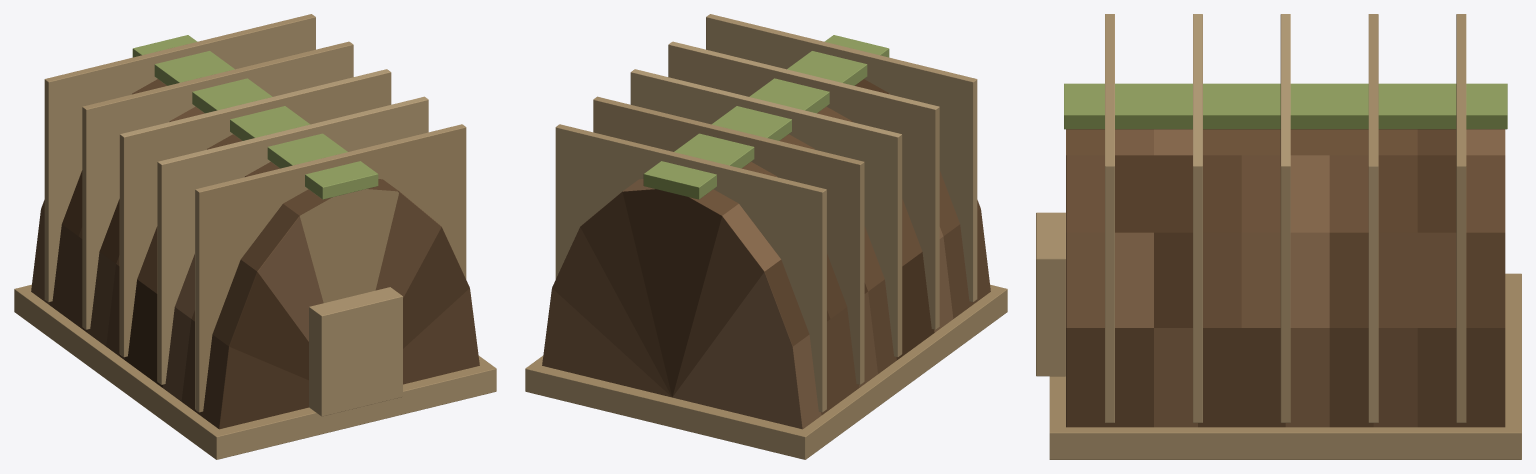
The model's file is House_Meso_c.fbx.
The picture shows the model from 3 angles, left to right: view 1: azimuth 30°, elevation 25°; view 2: azimuth 150°, elevation 25°; view 3: azimuth 270°, elevation 25°; orthographic projection. The views are drawn at different scales.
Parts seen in each view (by area): view 1: House_Meso_c; view 2: House_Meso_c; view 3: House_Meso_c.
Boxes of the visible parts, box(x1,y1,x2,y2) form: House_Meso_c: box(14, 14, 496, 459); House_Meso_c: box(525, 14, 1007, 459); House_Meso_c: box(1036, 14, 1521, 459).
Size of what is drawn, in the model's own units: 3.78 by 3.21 by 4.87.
